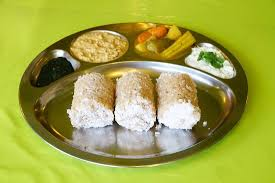pittu: (69, 68, 210, 128)
